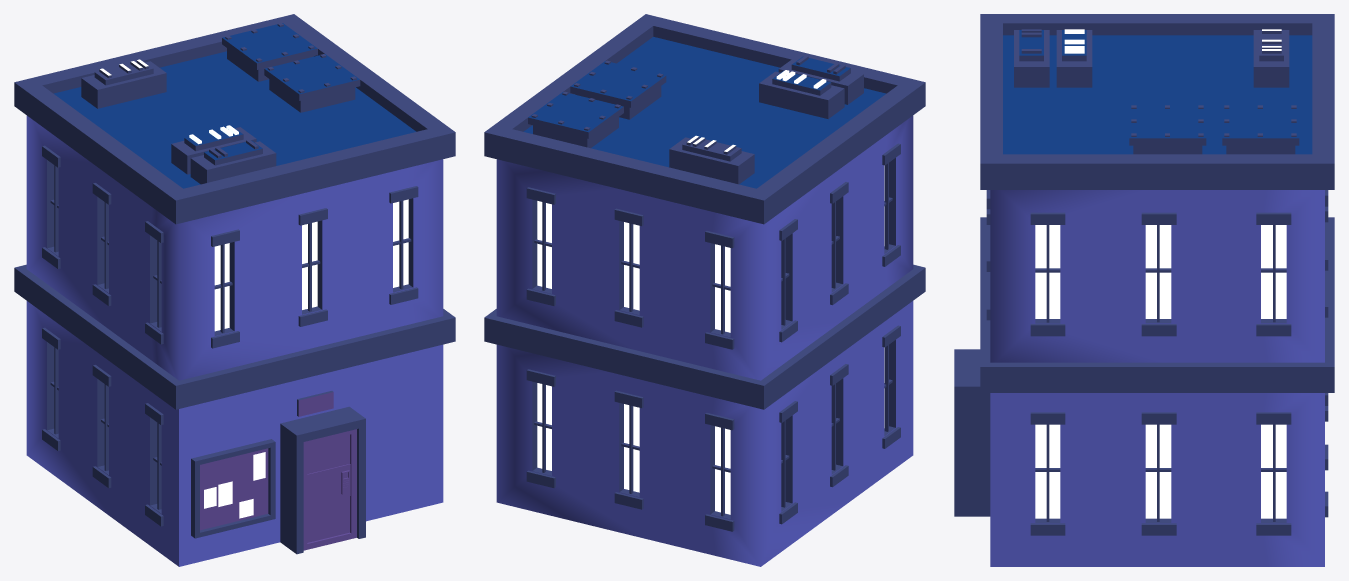
Rendered from 矮房子02.fbx.
3 views of the same model, side by side, from view 1: azimuth 30°, elevation 25°; view 2: azimuth 150°, elevation 25°; view 3: azimuth 270°, elevation 25° (orthographic). The views are drawn at different scales.
Visible parts, largest first — view 1: Building 02.016; view 2: Building 02.016; view 3: Building 02.016.
Part boxes in pixels (x1=…): Building 02.016: x1=14, y1=14, x2=455, y2=566; Building 02.016: x1=484, y1=14, x2=925, y2=566; Building 02.016: x1=954, y1=14, x2=1334, y2=566.
Size of the model in its own units: 5.79 by 7.66 by 6.22.
